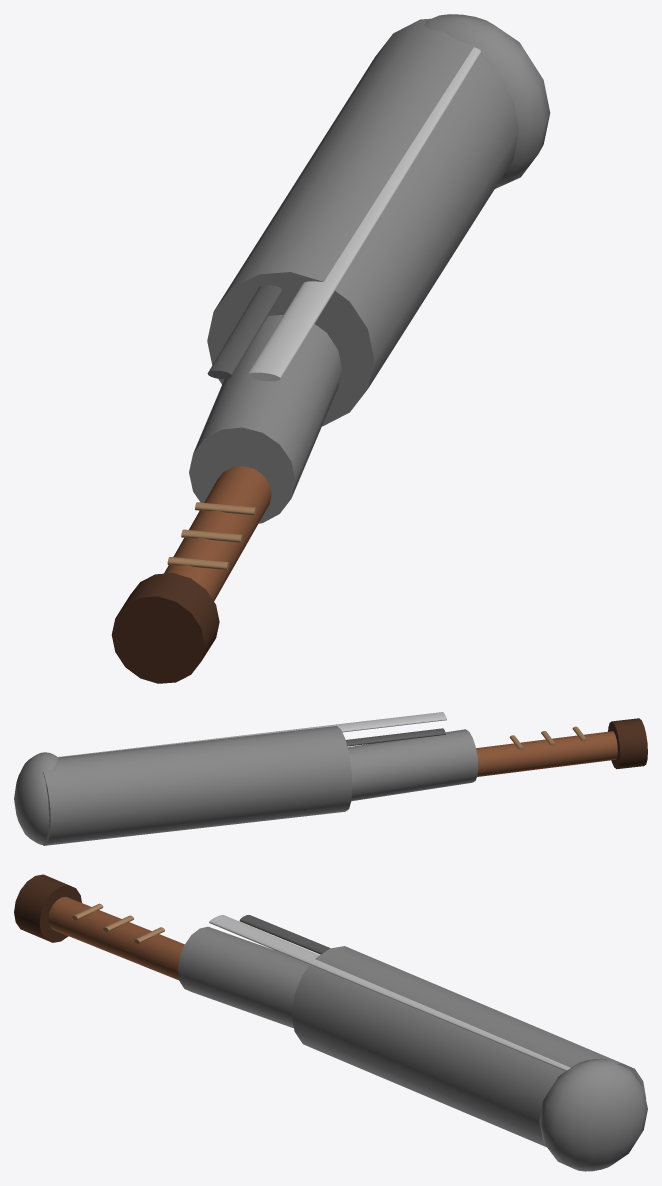
File: CMU3DFieldRMCBaseballBatMetalCloud.glb
The picture shows the model from 3 angles, top to bottom: view 1: azimuth 30°, elevation 25°; view 2: azimuth 150°, elevation 25°; view 3: azimuth 270°, elevation 25°; orthographic projection. The views are drawn at different scales.
Visible parts, largest first — view 1: upper widening bat barrel, lower tapered bat body, rounded handle knob, long curved highlight, rounded barrel end, slim handle, dark lower barrel shade; view 2: upper widening bat barrel, lower tapered bat body, slim handle, rounded barrel end, rounded handle knob, long curved highlight, dark lower barrel shade; view 3: upper widening bat barrel, rounded barrel end, lower tapered bat body, slim handle, long curved highlight, rounded handle knob, dark lower barrel shade.
Boxes of the visible parts, x1,y1,x2,y2 form: upper widening bat barrel: [207, 18, 518, 426]; lower tapered bat body: [189, 314, 342, 523]; rounded handle knob: [111, 573, 219, 683]; long curved highlight: [247, 47, 481, 381]; rounded barrel end: [424, 14, 550, 188]; slim handle: [164, 466, 271, 601]; dark lower barrel shade: [207, 285, 282, 378]; upper widening bat barrel: [42, 726, 352, 845]; lower tapered bat body: [347, 729, 478, 801]; slim handle: [476, 731, 617, 776]; rounded barrel end: [14, 752, 58, 844]; rounded handle knob: [608, 718, 647, 769]; long curved highlight: [57, 712, 446, 757]; dark lower barrel shade: [345, 728, 445, 746]; upper widening bat barrel: [291, 946, 646, 1147]; rounded barrel end: [539, 1058, 647, 1171]; lower tapered bat body: [178, 926, 309, 1028]; slim handle: [48, 896, 184, 980]; long curved highlight: [209, 915, 570, 1071]; rounded handle knob: [14, 874, 81, 942]; dark lower barrel shade: [239, 915, 330, 954].
Size of the model in its own units: 0.6732 by 0.1294 by 0.6993.
